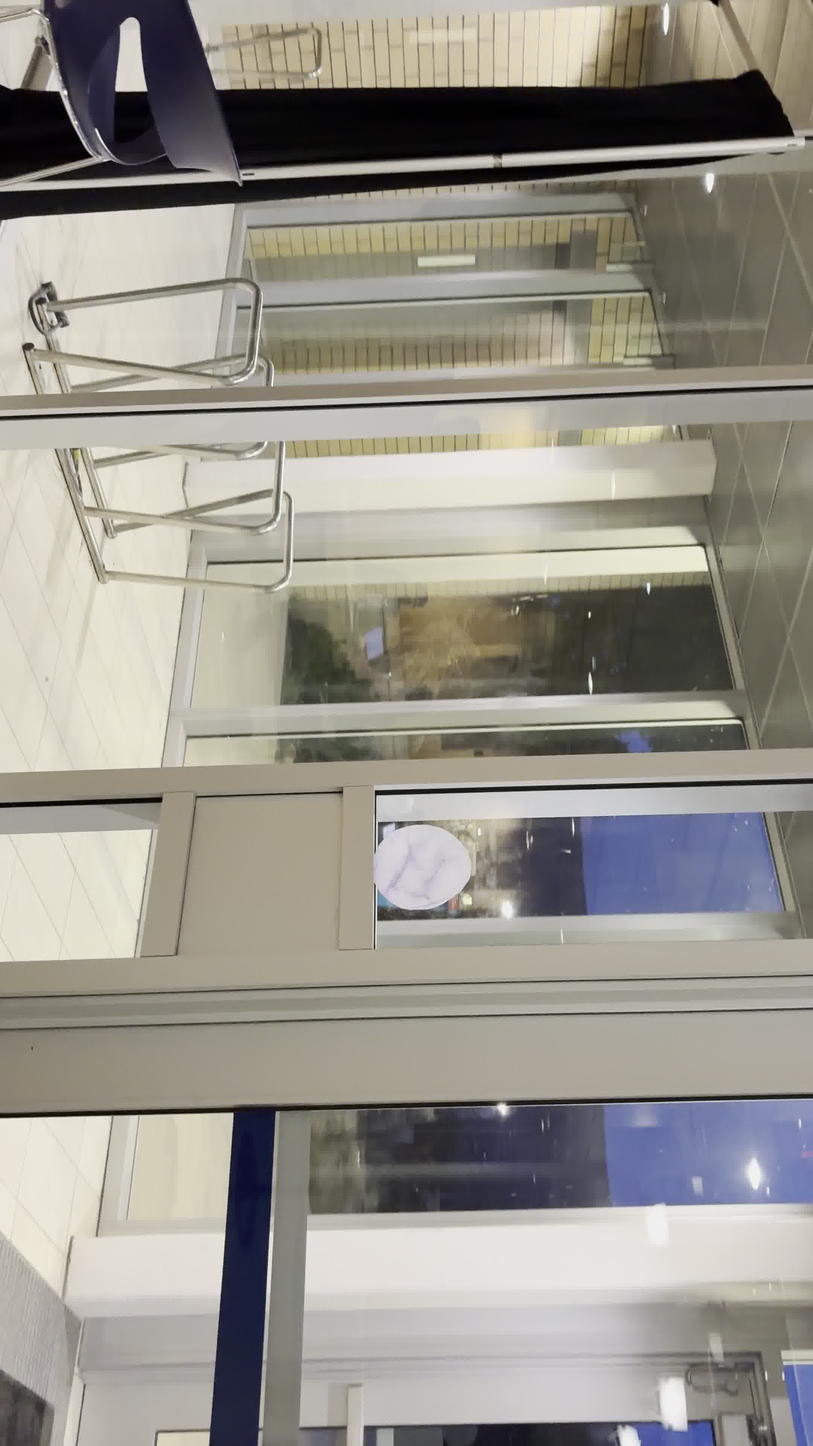Target: (371, 821, 474, 912)
